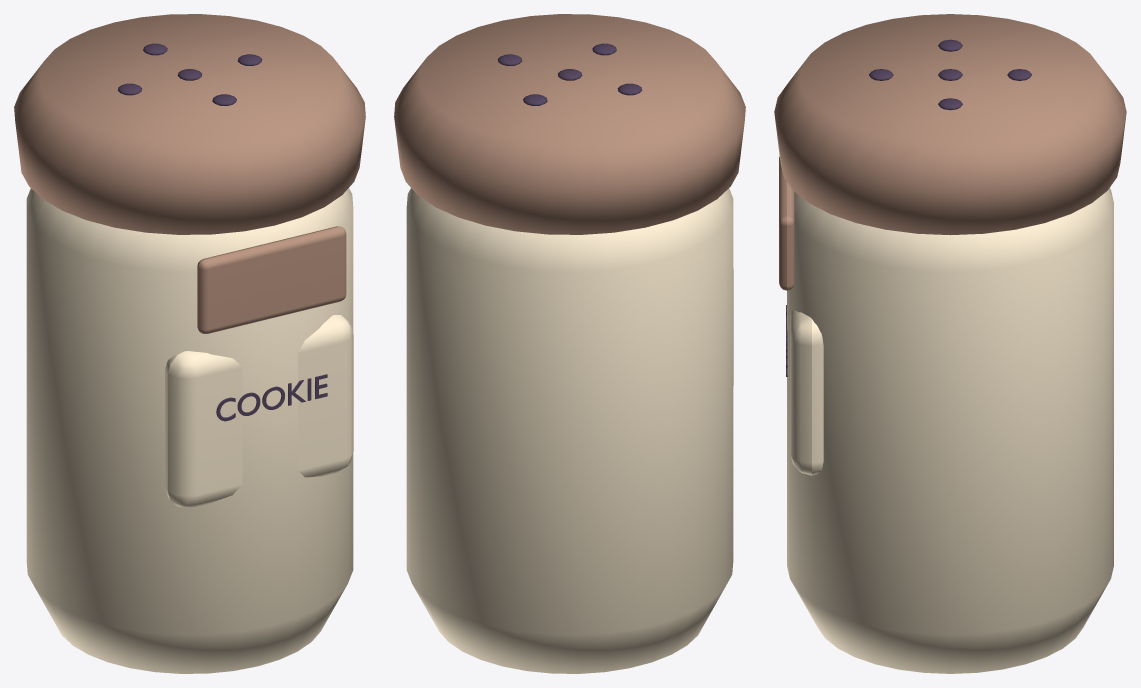
File: Cookie_crumbs_dispenser.fbx
3 views of the same model, side by side, from view 1: azimuth 30°, elevation 25°; view 2: azimuth 150°, elevation 25°; view 3: azimuth 270°, elevation 25° (orthographic).
Visible parts, largest first — view 1: Toon_Cookie_crumbs_dispenser Shaker jar.001, Toon_Cookie_crumbs_dispenser Colored lid.001, Toon_Cookie_crumbs_dispenser Bottle label.001, Toon_Cookie_crumbs_dispenser Contents window.001, Bottle name.007; view 2: Toon_Cookie_crumbs_dispenser Shaker jar.001, Toon_Cookie_crumbs_dispenser Colored lid.001; view 3: Toon_Cookie_crumbs_dispenser Shaker jar.001, Toon_Cookie_crumbs_dispenser Colored lid.001, Toon_Cookie_crumbs_dispenser Bottle label.001, Toon_Cookie_crumbs_dispenser Contents window.001.
Part boxes in pixels (<box>): Toon_Cookie_crumbs_dispenser Shaker jar.001: <box>26,188,353,673</box>; Toon_Cookie_crumbs_dispenser Colored lid.001: <box>14,14,365,234</box>; Toon_Cookie_crumbs_dispenser Bottle label.001: <box>165,314,353,508</box>; Toon_Cookie_crumbs_dispenser Contents window.001: <box>197,226,346,333</box>; Bottle name.007: <box>216,374,327,421</box>; Toon_Cookie_crumbs_dispenser Shaker jar.001: <box>406,188,733,673</box>; Toon_Cookie_crumbs_dispenser Colored lid.001: <box>394,14,745,234</box>; Toon_Cookie_crumbs_dispenser Shaker jar.001: <box>787,188,1113,673</box>; Toon_Cookie_crumbs_dispenser Colored lid.001: <box>774,14,1126,235</box>; Toon_Cookie_crumbs_dispenser Bottle label.001: <box>790,309,823,475</box>; Toon_Cookie_crumbs_dispenser Contents window.001: <box>779,156,794,290</box>.
Size of the model in its own units: 11.2 by 19.1 by 11.2.
